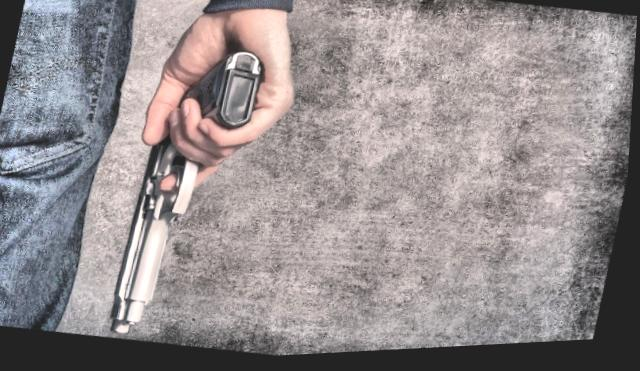pistol: (108, 40, 265, 346)
